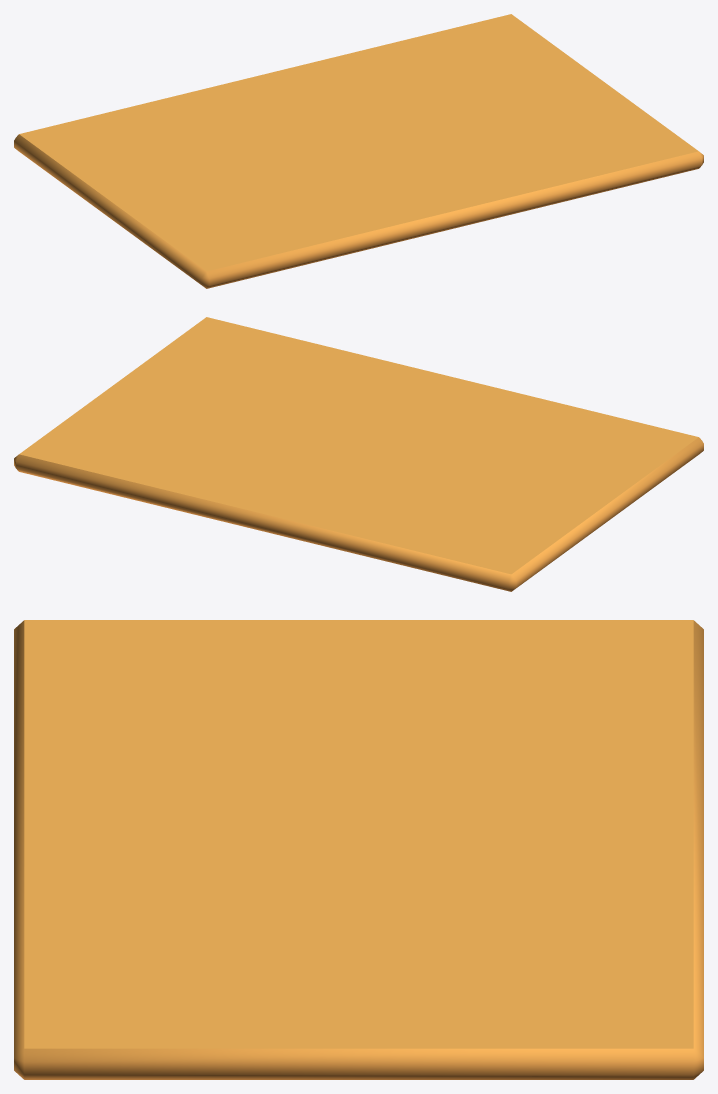
File: rug-rectangle-a.glb
3 renders of one model, top to bottom at view 1: azimuth 30°, elevation 25°; view 2: azimuth 150°, elevation 25°; view 3: azimuth 270°, elevation 25°, orthographic. The views are drawn at different scales.
Parts seen in each view (by area): view 1: rug_rectangle_A; view 2: rug_rectangle_A; view 3: rug_rectangle_A.
Part boxes in pixels (box(x1,y1,x2,y2)): rug_rectangle_A: box(14, 14, 703, 288); rug_rectangle_A: box(14, 317, 703, 591); rug_rectangle_A: box(14, 620, 703, 1079).
Size of the model in its own units: 3 by 0.1 by 2.
Materials: 1 (1 with a texture image).
